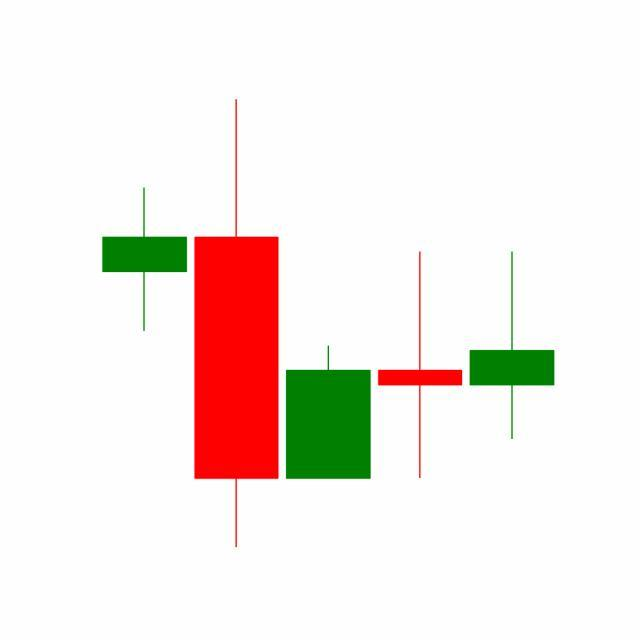Spinning Top: (466, 251, 559, 443)
